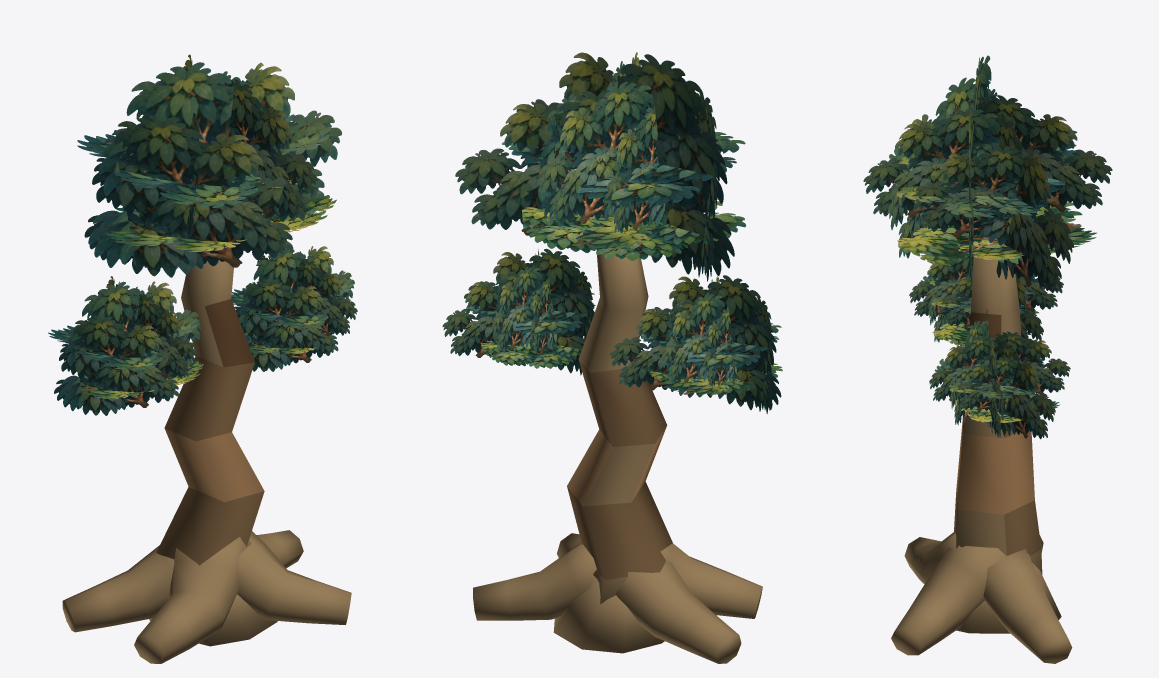
The model's file is TREE_EUCALYPTUS_001_v014_LOD_MAP.glb.
3 views of the same model, side by side, from view 1: azimuth 30°, elevation 25°; view 2: azimuth 150°, elevation 25°; view 3: azimuth 270°, elevation 25° (orthographic). The views are drawn at different scales.
Parts seen in each view (by area): view 1: TREE_EUCALYPTUS_001_MAP_AUTHORED_FOLIAGE_ISLANDS, TREE_EUCALYPTUS_001_MAP_MAIN_TRUNK, TREE_EUCALYPTUS_001_MAP_ROOT_FRONT_LEFT, TREE_EUCALYPTUS_001_MAP_ROOT_FRONT_RIGHT, TREE_EUCALYPTUS_001_MAP_ROOT_LONG_LEFT, TREE_EUCALYPTUS_001_MAP_SCULPTED_ROOT_COLLAR, TREE_EUCALYPTUS_001_MAP_ROOT_RIGHT_SIDE; view 2: TREE_EUCALYPTUS_001_MAP_AUTHORED_FOLIAGE_ISLANDS, TREE_EUCALYPTUS_001_MAP_MAIN_TRUNK, TREE_EUCALYPTUS_001_MAP_ROOT_LONG_LEFT, TREE_EUCALYPTUS_001_MAP_ROOT_RIGHT_SIDE, TREE_EUCALYPTUS_001_MAP_SCULPTED_ROOT_COLLAR, TREE_EUCALYPTUS_001_MAP_ROOT_FRONT_LEFT; view 3: TREE_EUCALYPTUS_001_MAP_AUTHORED_FOLIAGE_ISLANDS, TREE_EUCALYPTUS_001_MAP_MAIN_TRUNK, TREE_EUCALYPTUS_001_MAP_ROOT_FRONT_RIGHT, TREE_EUCALYPTUS_001_MAP_ROOT_RIGHT_SIDE, TREE_EUCALYPTUS_001_MAP_ROOT_FRONT_LEFT, TREE_EUCALYPTUS_001_MAP_SCULPTED_ROOT_COLLAR.
Part boxes in pixels (x1,y1,x2,y2): TREE_EUCALYPTUS_001_MAP_AUTHORED_FOLIAGE_ISLANDS: (48,54,357,415); TREE_EUCALYPTUS_001_MAP_MAIN_TRUNK: (156,260,264,565); TREE_EUCALYPTUS_001_MAP_ROOT_FRONT_LEFT: (134,537,251,663); TREE_EUCALYPTUS_001_MAP_ROOT_FRONT_RIGHT: (237,531,351,624); TREE_EUCALYPTUS_001_MAP_ROOT_LONG_LEFT: (62,545,174,632); TREE_EUCALYPTUS_001_MAP_SCULPTED_ROOT_COLLAR: (149,594,277,646); TREE_EUCALYPTUS_001_MAP_ROOT_RIGHT_SIDE: (256,530,303,568); TREE_EUCALYPTUS_001_MAP_AUTHORED_FOLIAGE_ISLANDS: (442,52,782,413); TREE_EUCALYPTUS_001_MAP_MAIN_TRUNK: (567,249,672,604); TREE_EUCALYPTUS_001_MAP_ROOT_LONG_LEFT: (593,560,741,663); TREE_EUCALYPTUS_001_MAP_ROOT_RIGHT_SIDE: (473,543,597,620); TREE_EUCALYPTUS_001_MAP_SCULPTED_ROOT_COLLAR: (553,579,664,653); TREE_EUCALYPTUS_001_MAP_ROOT_FRONT_LEFT: (660,543,762,618); TREE_EUCALYPTUS_001_MAP_AUTHORED_FOLIAGE_ISLANDS: (863,55,1112,439); TREE_EUCALYPTUS_001_MAP_MAIN_TRUNK: (954,254,1042,574); TREE_EUCALYPTUS_001_MAP_ROOT_FRONT_RIGHT: (891,546,1009,655); TREE_EUCALYPTUS_001_MAP_ROOT_RIGHT_SIDE: (983,549,1072,663); TREE_EUCALYPTUS_001_MAP_ROOT_FRONT_LEFT: (904,532,961,583); TREE_EUCALYPTUS_001_MAP_SCULPTED_ROOT_COLLAR: (956,563,1061,633).
Bounding box in the file's own units: 4.08 × 6.57 × 3.3.
5 materials, 1 textured.
